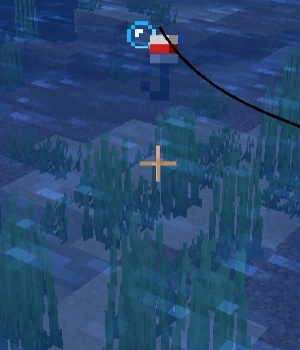up: (138, 29, 181, 100)
